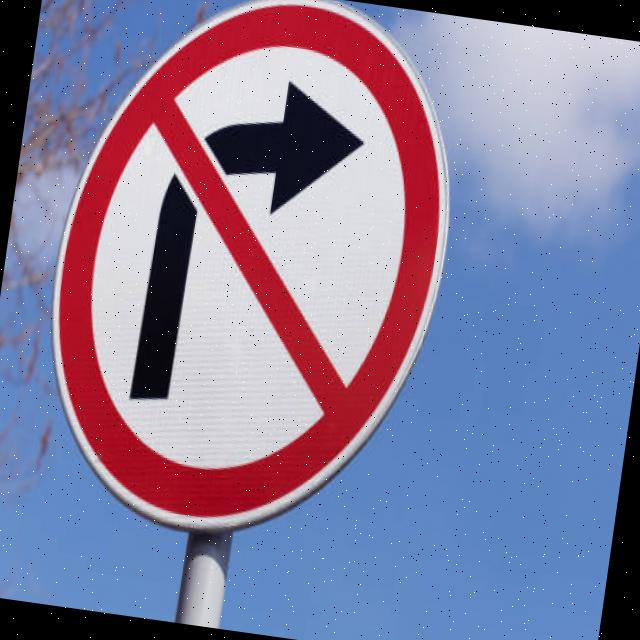do_not_turn_right: (5, 0, 482, 583)
